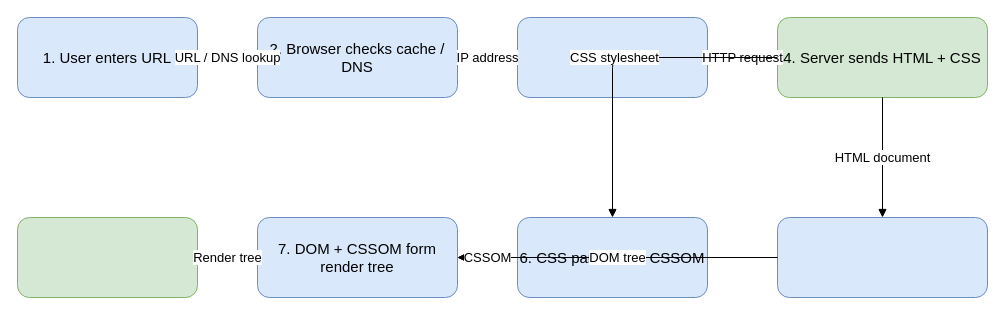
Image size: 1005x315. Some labels were removed from this diagram. The centre of each missing label's shape, as x and y in pixels:
"3. HTTP request sent" belongs at (612,57).
"5. HTML parsed into DOM" belongs at (882,257).
"8. Layout → paint → pixels" belongs at (107,257).
